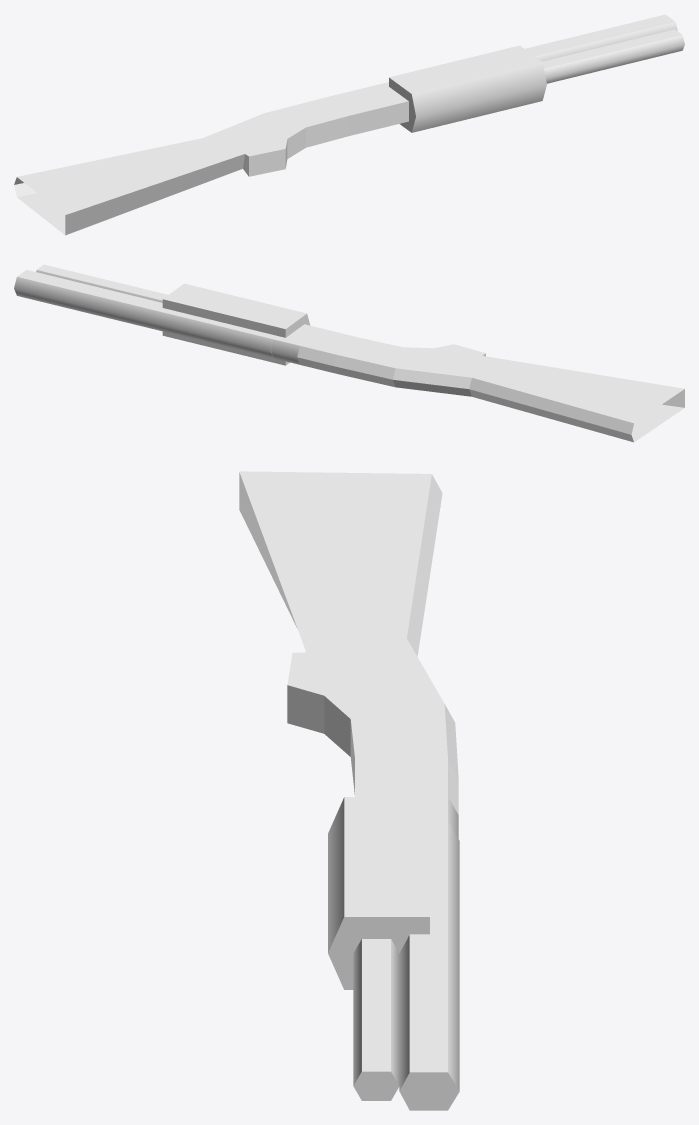
The model's file is shotgun.FBX.
3 renders of one model, top to bottom at view 1: azimuth 30°, elevation 25°; view 2: azimuth 150°, elevation 25°; view 3: azimuth 270°, elevation 25°, orthographic. The views are drawn at different scales.
Parts seen in each view (by area): view 1: shotgun; view 2: shotgun; view 3: shotgun.
Part boxes in pixels (x1,y1,x2,y2): shotgun: (14, 14, 684, 235); shotgun: (14, 264, 684, 442); shotgun: (239, 471, 459, 1110).
Size of the model in its own units: 109 by 6.17 by 16.89.
Materials: 1 (1 with a texture image).
